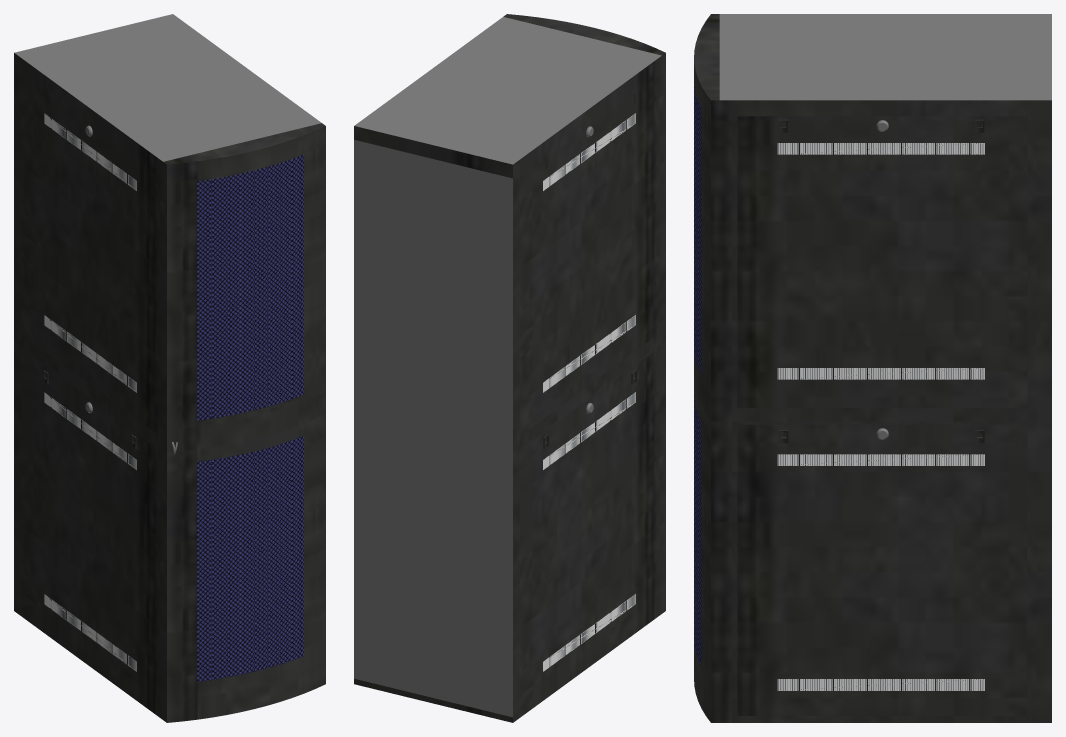
The model's file is Server Rack Shell.glb.
3 views of the same model, side by side, from view 1: azimuth 30°, elevation 25°; view 2: azimuth 150°, elevation 25°; view 3: azimuth 270°, elevation 25° (orthographic). The views are drawn at different scales.
Size of the model in its own units: 0.62 by 2.02 by 1.05.
Materials: 4 (3 with a texture image).
